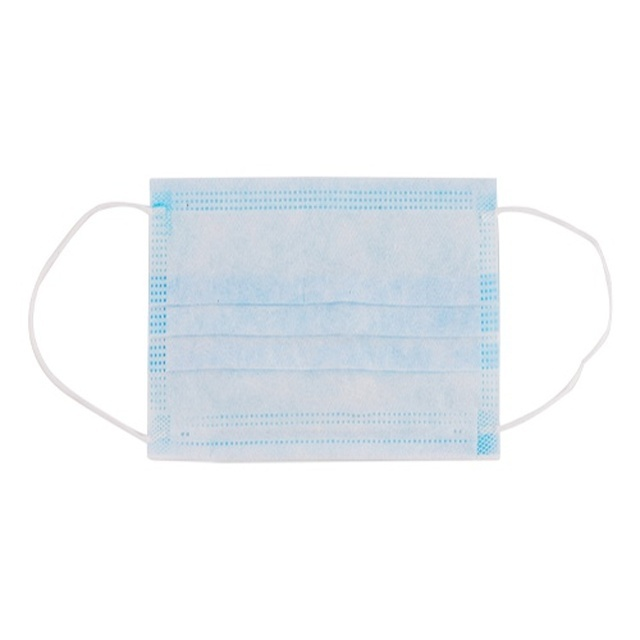mask: (23, 169, 617, 464)
